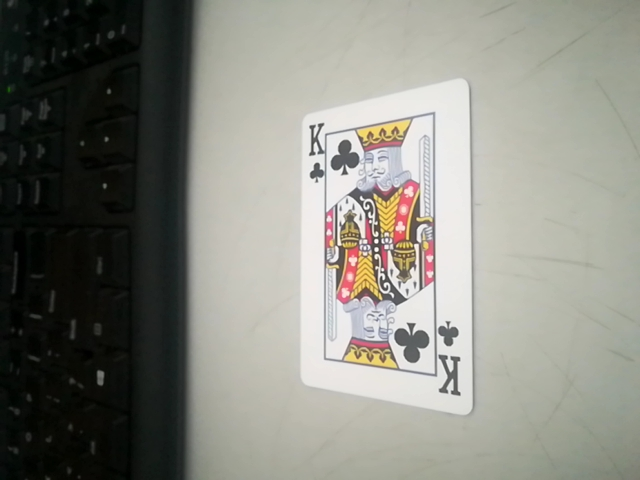mh k: (293, 82, 471, 411)
